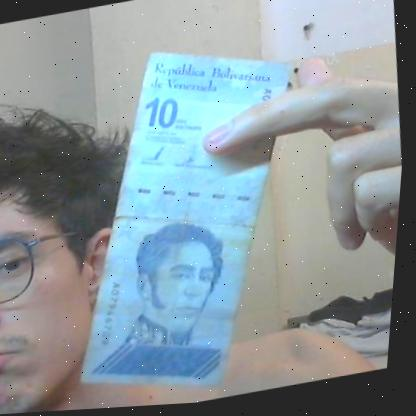ten-front-vef: (43, 27, 331, 413)
